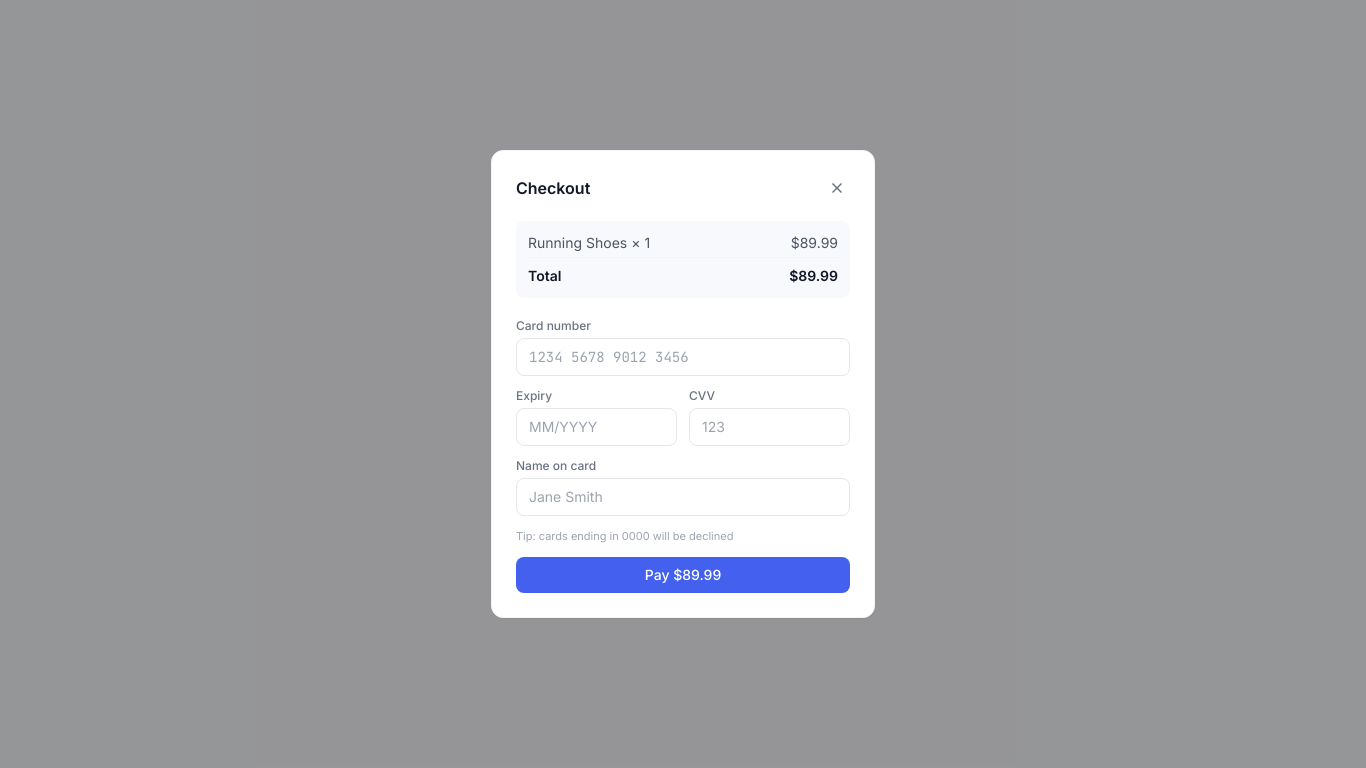
Test: CheckoutModal › expiry validation (MM/YYYY) › auto-inserts the slash after two digits as the user types
In the field with placeholder "MM/YYYY": (596, 427) [516,408,677,446], type "122030"
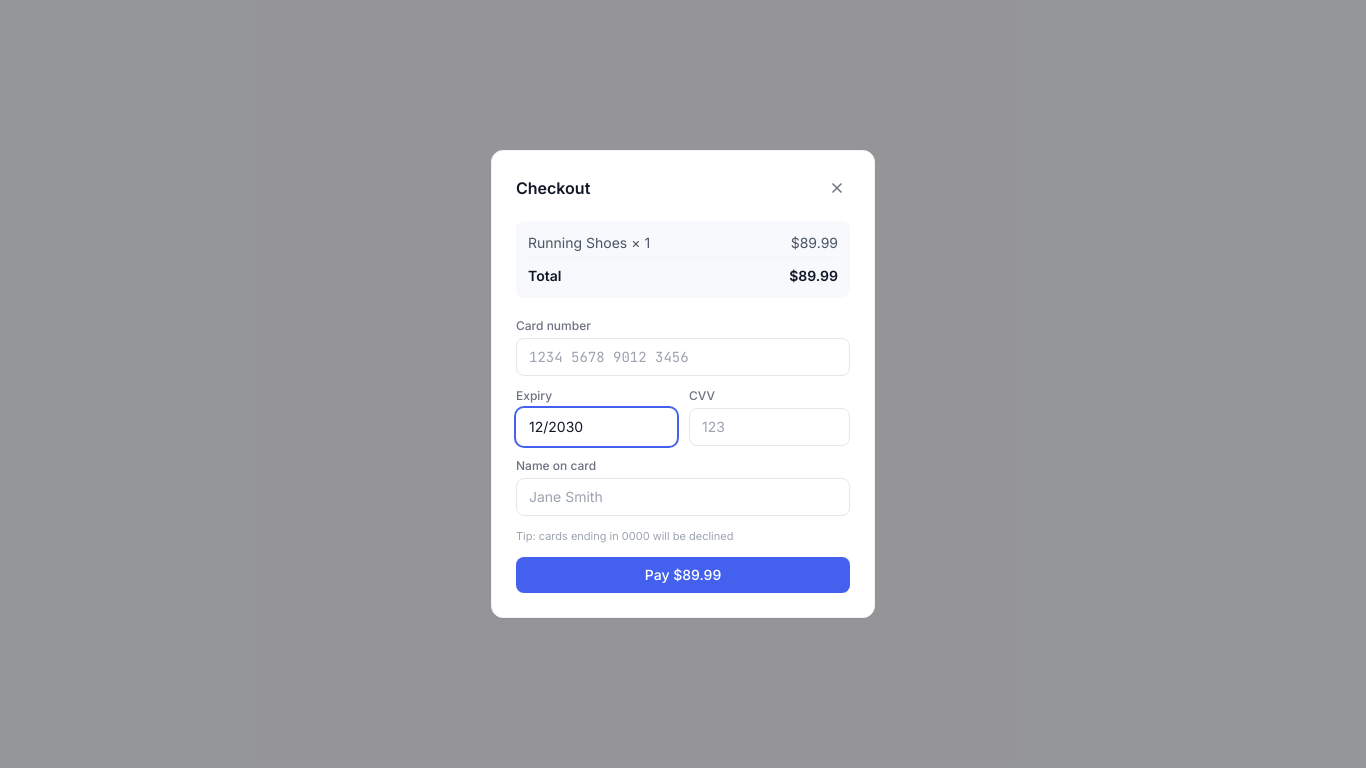
Result: the field with placeholder "MM/YYYY" holds "12/2030" at [516,408,677,446]
